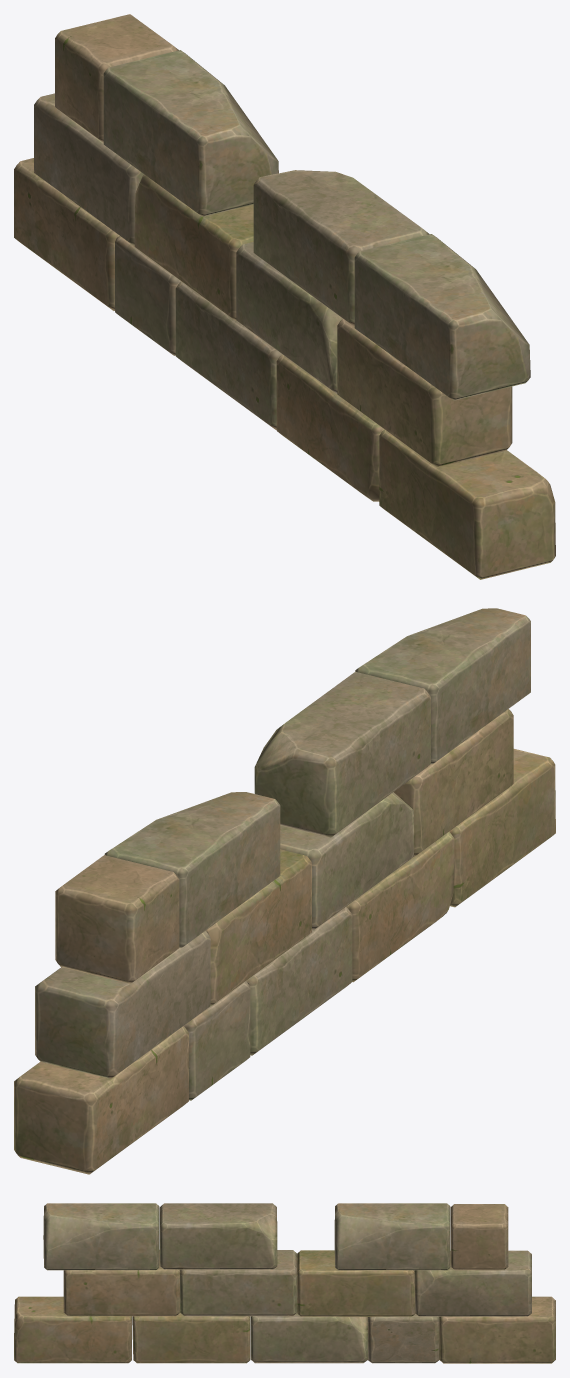
Rendered from SM_Brick_Rubble_Wall.fbx.
3 renders of one model, top to bottom at view 1: azimuth 30°, elevation 25°; view 2: azimuth 150°, elevation 25°; view 3: azimuth 270°, elevation 25°, orthographic. The views are drawn at different scales.
Parts seen in each view (by area): view 1: SM_Brick_Rubble_Wall_LOD0; view 2: SM_Brick_Rubble_Wall_LOD0; view 3: SM_Brick_Rubble_Wall_LOD0.
Part boxes in pixels (x1,y1,x2,y2): SM_Brick_Rubble_Wall_LOD0: (14, 14, 555, 579); SM_Brick_Rubble_Wall_LOD0: (14, 608, 555, 1174); SM_Brick_Rubble_Wall_LOD0: (14, 1203, 555, 1363).
Bounding box in the file's own units: 20.49 × 200 × 57.2.
Materials: 1 (1 with a texture image).
